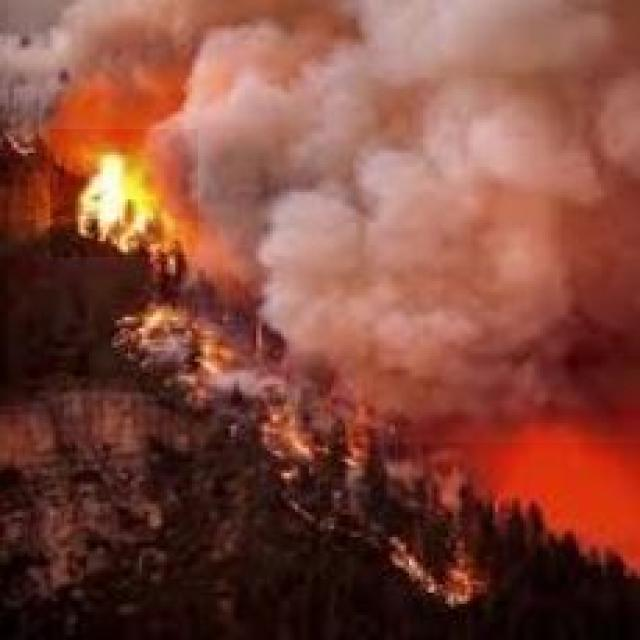Fire: (50, 130, 198, 258)
Smoke: (8, 0, 640, 443)
